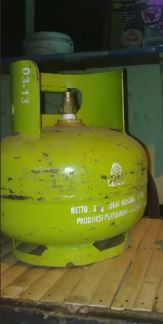gas_ijo: (1, 59, 149, 269)
